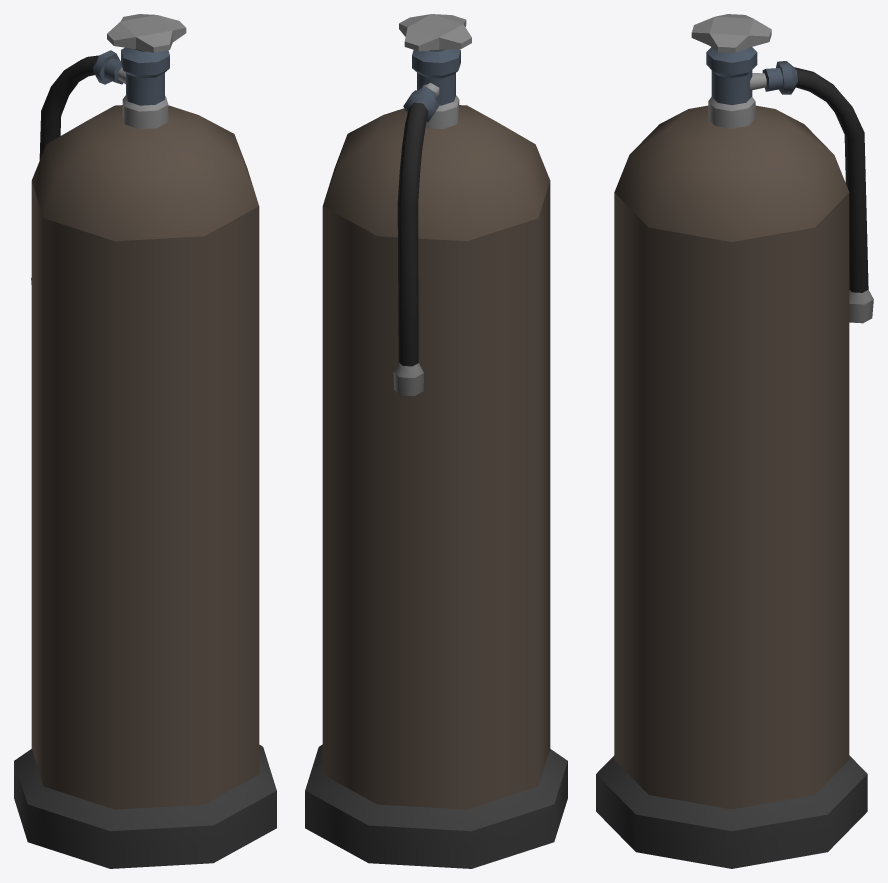
File: GasCylinder_1_3.fbx
3 views of the same model, side by side, from view 1: azimuth 30°, elevation 25°; view 2: azimuth 150°, elevation 25°; view 3: azimuth 270°, elevation 25° (orthographic).
Parts seen in each view (by area): view 1: GasCylinder_1_3; view 2: GasCylinder_1_3; view 3: GasCylinder_1_3.
Boxes of the visible parts, x1,y1,x2,y2 form: GasCylinder_1_3: (14,14,276,868); GasCylinder_1_3: (305,14,567,868); GasCylinder_1_3: (596,14,873,868).
Size of the model in its own units: 27.47 by 87.73 by 28.1.
